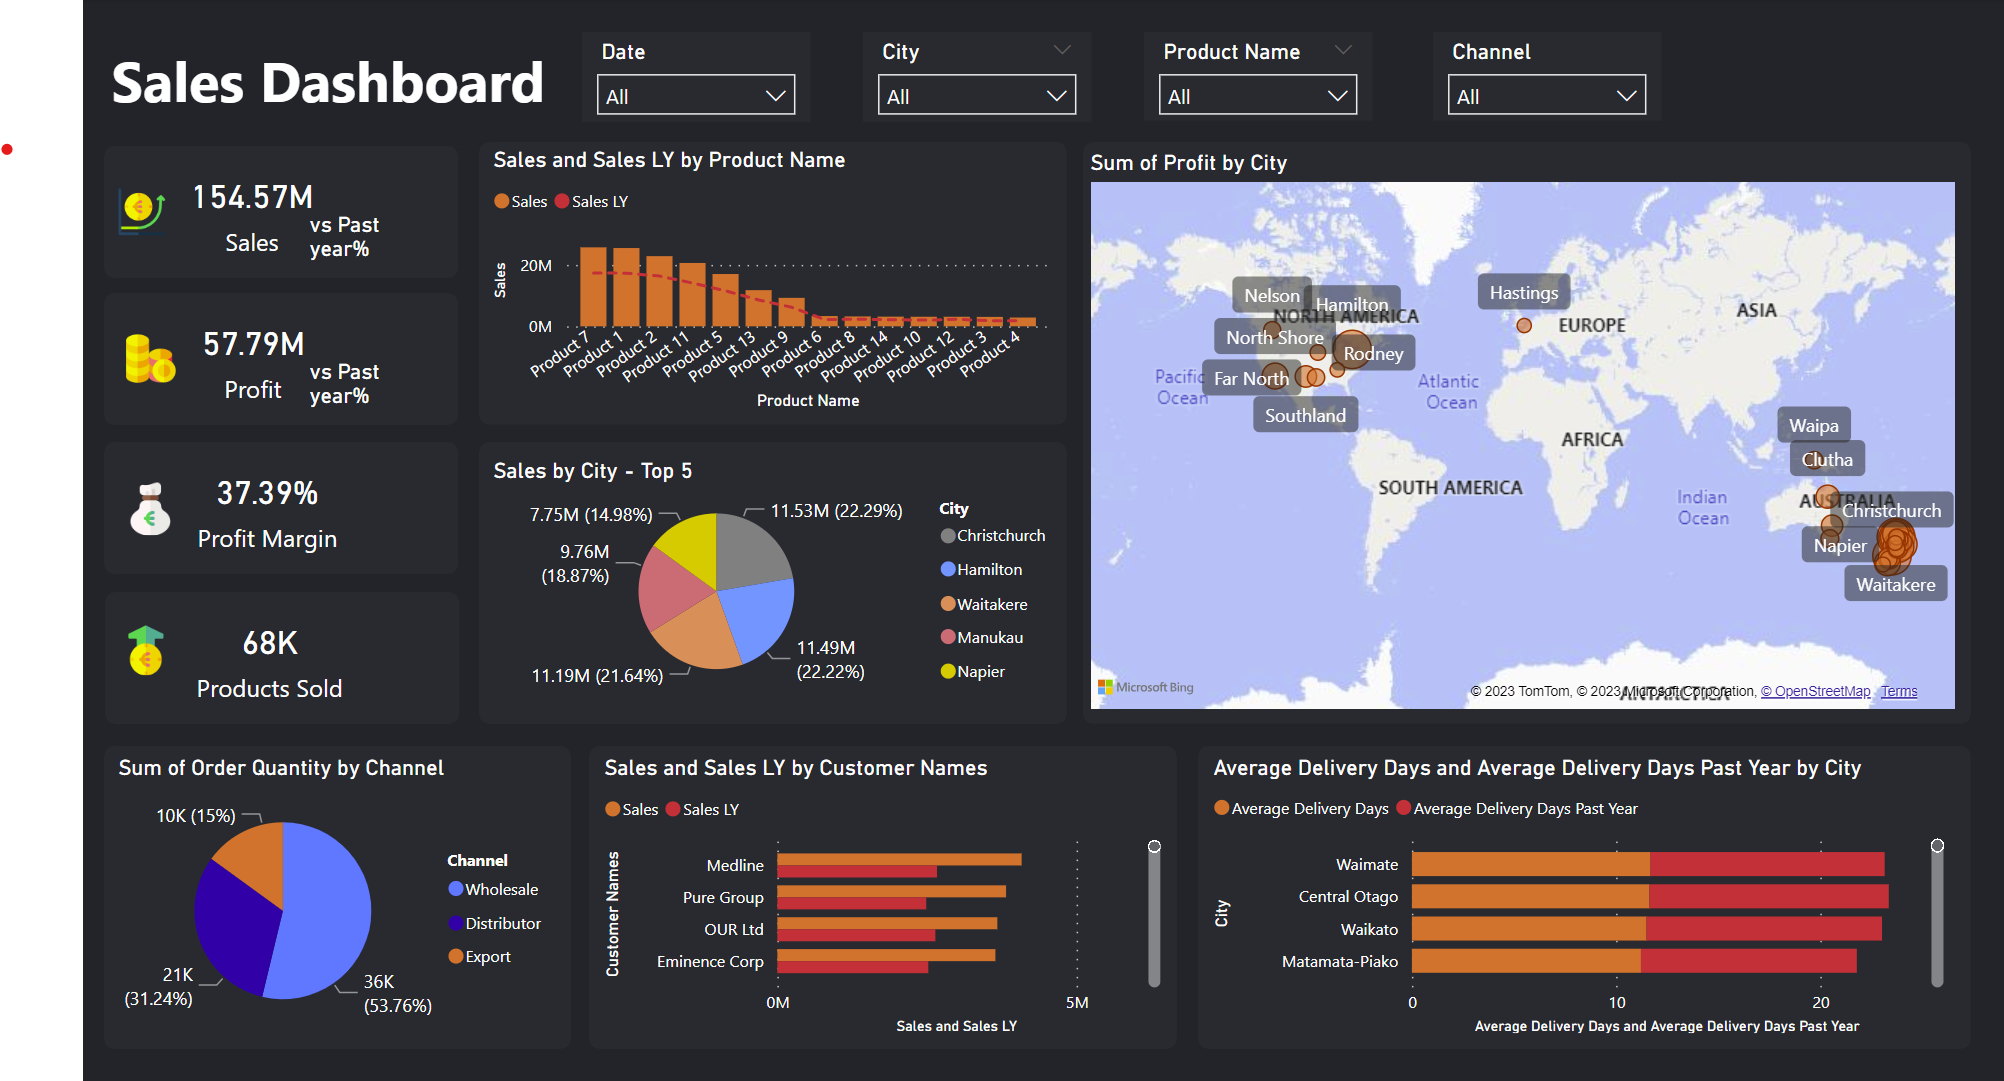

This screenshot's page, from the dashboard's own definition file:
{"tool":"powerbi","page":{"name":"Duplicate of Page 1","canvas":[1280,720],"ordinal":0},"visuals":[{"type":"slicer","fields":{"Values":["DateTable.Year","DateTable.Month Short Name Plus Year"]},"box":[332.5,22,151.6,59.9],"z":0},{"type":"textbox","box":[14.7,23.2,310.5,74.6],"z":1000},{"type":"slicer","fields":{"Values":["Regions_Table.City"]},"box":[519.5,22,151.6,59.9],"z":2000},{"type":"slicer","fields":{"Values":["Products_Data.Product Name"]},"box":[706.6,22,151.6,58.7],"z":3000},{"type":"slicer","fields":{"Values":["Sales_Data.Channel"]},"box":[898.5,22,151.6,58.7],"z":4000},{"type":"group","id":"g1","title":"Group 1","box":[14.7,97.8,235.9,88],"z":5000},{"type":"shape","box":[264.1,95.1,391.2,188.3],"z":6000},{"type":"shape","box":[14.8,195.6,235.7,87.8],"z":6000,"group":"g2"},{"type":"lineClusteredColumnComboChart","fields":{"Category":["Products_Data.Product Name"],"Y":["Mesure Table.Sales"],"Y2":["Mesure Table.Sales PY"]},"box":[268.8,98.5,379.9,179],"z":7000},{"type":"shape","box":[14.8,294.6,235.7,87.8],"z":7000,"group":"g3"},{"type":"shape","box":[15,394.8,235.7,87.8],"z":8000,"group":"g4"},{"type":"shape","box":[337.3,497,391.2,201.6],"z":8000},{"type":"card","fields":{"Values":["Mesure Table.Profit"]},"box":[64.9,201.2,97.1,76.7],"z":9000,"group":"g2"},{"type":"shape","box":[264.1,294.7,391.2,187.6],"z":9000},{"type":"card","fields":{"Values":["Mesure Table.Profit Margin"]},"box":[64.9,300.2,116.3,76.7],"z":10000,"group":"g3"},{"type":"clusteredBarChart","fields":{"Category":["Customer_Data.Customer Names"],"Y":["Mesure Table.Sales","Mesure Table.Sales PY"]},"box":[342.6,503,379.9,190.3],"z":10000},{"type":"group","id":"g2","title":"Group 3","box":[1.2,195.6,249.4,88],"z":11000},{"type":"card","fields":{"Values":["Mesure Table.Products Sold"]},"box":[65.1,400.4,119.4,76.7],"z":11000,"group":"g4"},{"type":"card","title":"vs  Past year%","fields":{"Values":["Mesure Table.Profit vs LY %"]},"box":[146.6,239.5,103.9,42.1],"z":12000,"group":"g2"},{"type":"group","id":"g3","title":"Group 4","box":[0,294.6,250.6,88],"z":12000},{"type":"image","box":[1.2,217.9,88.5,42.7],"z":13000,"group":"g2"},{"type":"group","id":"g4","title":"Group 5","box":[9.8,394.8,240.8,88],"z":13000},{"type":"image","box":[0,316.2,89.7,44.5],"z":14000,"group":"g3"},{"type":"shape","box":[14.6,497,310.7,201.6],"z":14000},{"type":"image","box":[9.8,411.9,64.8,42.8],"z":15000,"group":"g4"},{"type":"pieChart","fields":{"Category":["Sales_Data.Channel"],"Y":["Sum(Sales_Data.Order Quantity)"]},"box":[19.3,503,300.7,190.3],"z":15000},{"type":"pieChart","title":"Sales by City - Top 5","fields":{"Category":["Regions_Table.City"],"Y":["Mesure Table.Sales"]},"box":[268.8,305.4,386.5,160.3],"z":16000},{"type":"shape","box":[665.9,95.1,590.8,387.2],"z":18000},{"type":"shape","box":[14.7,97.8,235.7,87.8],"z":18000,"group":"g5"},{"type":"map","fields":{"Size":["Sum(Sales_Data.Profit)"],"Category":["Regions_Table.City"]},"box":[665.9,100.5,585.4,376.5],"z":19000},{"type":"card","fields":{"Values":["Mesure Table.Sales"]},"box":[64.8,103.4,97.1,76.7],"z":19000,"group":"g5"},{"type":"image","box":[19,111.4,41.4,60.6],"z":20000,"group":"g5"},{"type":"shape","box":[742.5,497,514.3,201.6],"z":20000},{"type":"barChart","fields":{"Category":["Regions_Table.City"],"Y":["Mesure Table.Average Delivery Days","Mesure Table.Average Delivery Days Past Year"]},"box":[747.8,503,495.6,190.3],"z":20001},{"type":"card","title":"vs  Past year%","fields":{"Values":["Mesure Table.Sales vs PY %"]},"box":[146.5,141.7,103.9,42.1],"z":21000,"group":"g5"},{"type":"group","id":"g5","title":"Group 2","box":[14.7,97.8,235.9,88],"z":22001,"group":"g1"}]}

Visuals, with their boxes on the page's 1280x720 design canvas (x1, y1, x2, y2). These are canvas units, not pixel positions in the 2004x1081 screenshot, which may show the page scaled, cropped or inside an application window:
slicer - DateTable.Year x DateTable.Month Short Name Plus Year: x1=332, y1=22, x2=484, y2=82
textbox: x1=15, y1=23, x2=325, y2=98
slicer - Regions_Table.City: x1=520, y1=22, x2=671, y2=82
slicer - Products_Data.Product Name: x1=707, y1=22, x2=858, y2=81
slicer - Sales_Data.Channel: x1=898, y1=22, x2=1050, y2=81
"Group 1" group: x1=15, y1=98, x2=251, y2=186
shape: x1=264, y1=95, x2=655, y2=283
shape: x1=15, y1=196, x2=250, y2=283
lineClusteredColumnComboChart - Products_Data.Product Name x Mesure Table.Sales: x1=269, y1=98, x2=649, y2=278
shape: x1=15, y1=295, x2=250, y2=382
shape: x1=15, y1=395, x2=251, y2=483
shape: x1=337, y1=497, x2=728, y2=699
card - Mesure Table.Profit: x1=65, y1=201, x2=162, y2=278
shape: x1=264, y1=295, x2=655, y2=482
card - Mesure Table.Profit Margin: x1=65, y1=300, x2=181, y2=377
clusteredBarChart - Customer_Data.Customer Names x Mesure Table.Sales: x1=343, y1=503, x2=722, y2=693
"Group 3" group: x1=1, y1=196, x2=251, y2=284
card - Mesure Table.Products Sold: x1=65, y1=400, x2=184, y2=477
"vs  Past year%" card: x1=147, y1=240, x2=250, y2=282
"Group 4" group: x1=0, y1=295, x2=251, y2=383
image: x1=1, y1=218, x2=90, y2=261
"Group 5" group: x1=10, y1=395, x2=251, y2=483
image: x1=0, y1=316, x2=90, y2=361
shape: x1=15, y1=497, x2=325, y2=699
image: x1=10, y1=412, x2=75, y2=455
pieChart - Sales_Data.Channel x Sum(Sales_Data.Order Quantity): x1=19, y1=503, x2=320, y2=693
"Sales by City - Top 5" pieChart: x1=269, y1=305, x2=655, y2=466
shape: x1=666, y1=95, x2=1257, y2=482
shape: x1=15, y1=98, x2=250, y2=186
map - Sum(Sales_Data.Profit) x Regions_Table.City: x1=666, y1=100, x2=1251, y2=477
card - Mesure Table.Sales: x1=65, y1=103, x2=162, y2=180
image: x1=19, y1=111, x2=60, y2=172
shape: x1=742, y1=497, x2=1257, y2=699
barChart - Regions_Table.City x Mesure Table.Average Delivery Days: x1=748, y1=503, x2=1243, y2=693
"vs  Past year%" card: x1=146, y1=142, x2=250, y2=184
"Group 2" group: x1=15, y1=98, x2=251, y2=186
